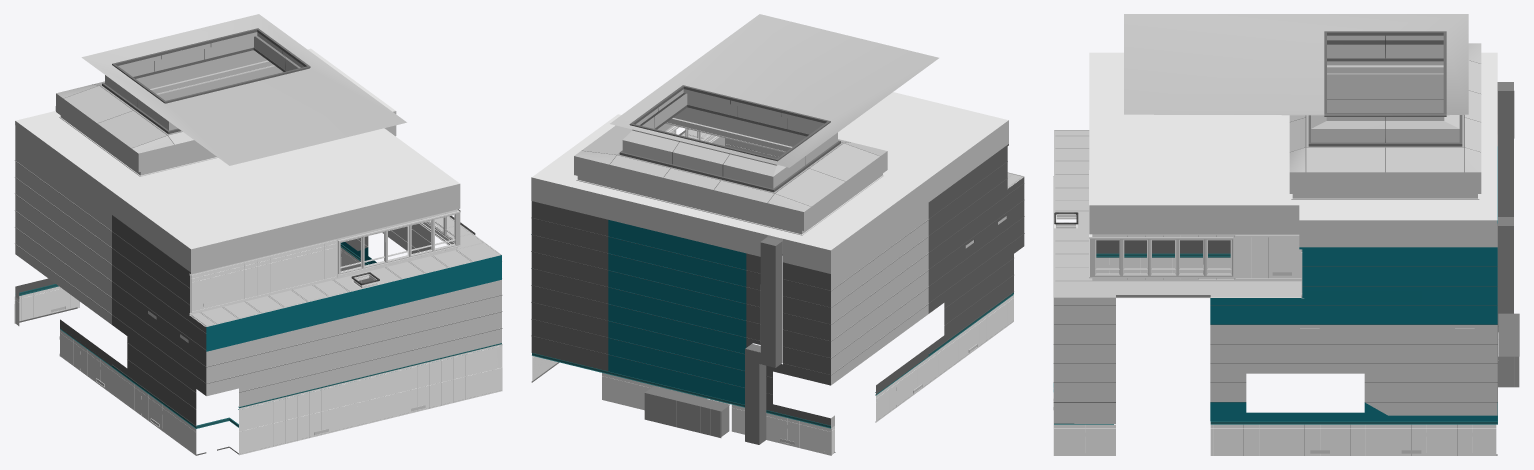
3 renders of one model, left to right at view 1: azimuth 30°, elevation 25°; view 2: azimuth 150°, elevation 25°; view 3: azimuth 270°, elevation 25°, orthographic. The views are drawn at different scales.
Visible parts, largest first — view 1: SM_H_Building_FutureTech_HLight_01_InterWall_04H; view 2: SM_H_Building_FutureTech_HLight_01_InterWall_04H; view 3: SM_H_Building_FutureTech_HLight_01_InterWall_04H.
Boxes of the visible parts, x1,y1,x2,y2 form: SM_H_Building_FutureTech_HLight_01_InterWall_04H: (14, 14, 502, 455); SM_H_Building_FutureTech_HLight_01_InterWall_04H: (531, 14, 1024, 455); SM_H_Building_FutureTech_HLight_01_InterWall_04H: (1053, 14, 1519, 455).
Size of the model in its own units: 1815 by 1551 by 1309.
